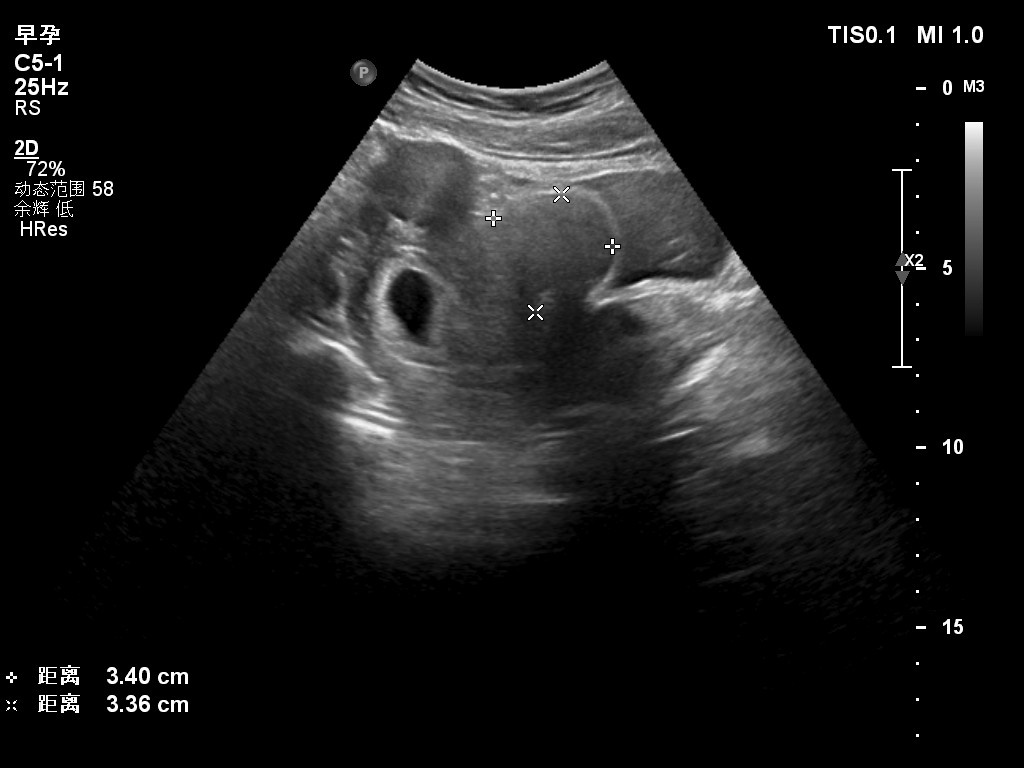肌瘤: (506, 197, 605, 301)
